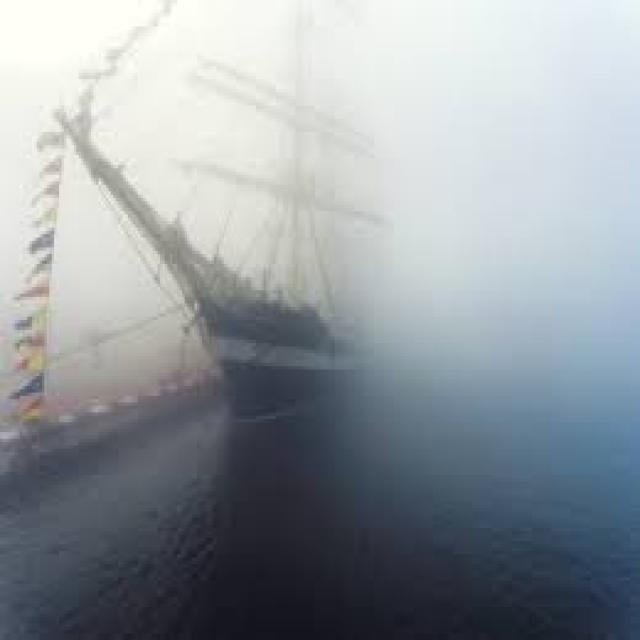fishing boat: (71, 16, 447, 410)
